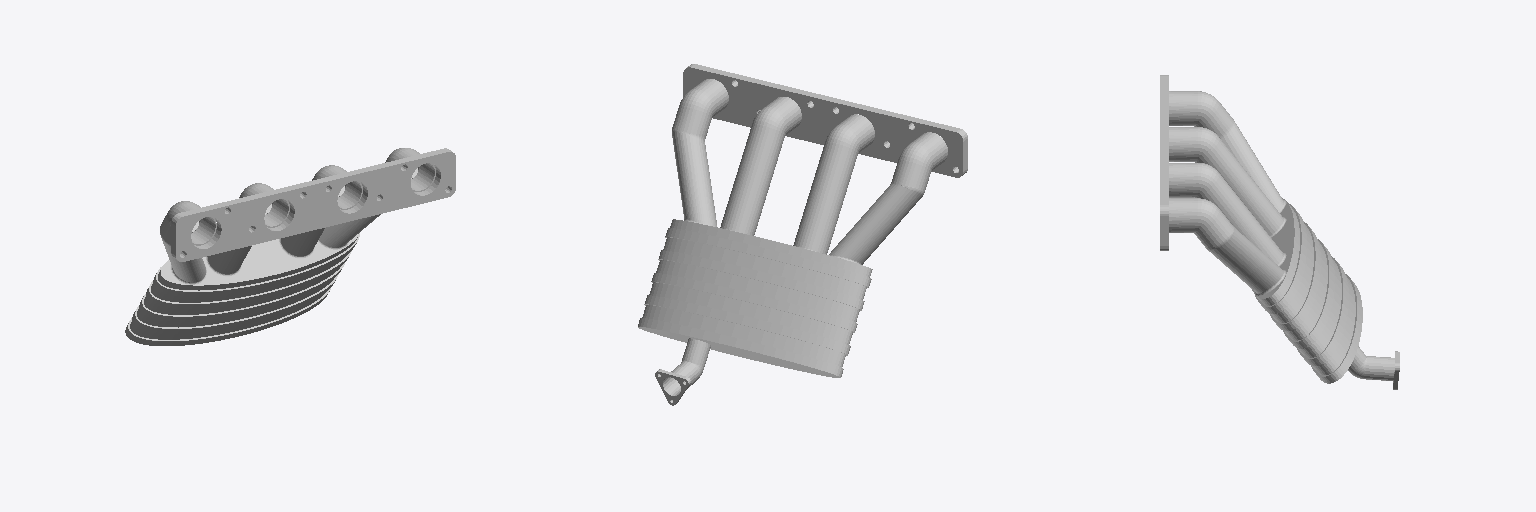
Rendered from Выпускной тракт.obj.
3 views of the same model, side by side, from view 1: azimuth 30°, elevation 25°; view 2: azimuth 150°, elevation 25°; view 3: azimuth 270°, elevation 25° (orthographic).
Parts seen in each view (by area): view 1: Выпускной_тракт; view 2: Выпускной_тракт; view 3: Выпускной_тракт.
Part boxes in pixels (x1,y1,x2,y2): Выпускной_тракт: (125, 148, 455, 345); Выпускной_тракт: (638, 64, 967, 405); Выпускной_тракт: (1160, 75, 1399, 389).
Bounding box in the file's own units: 341 × 269 × 253.